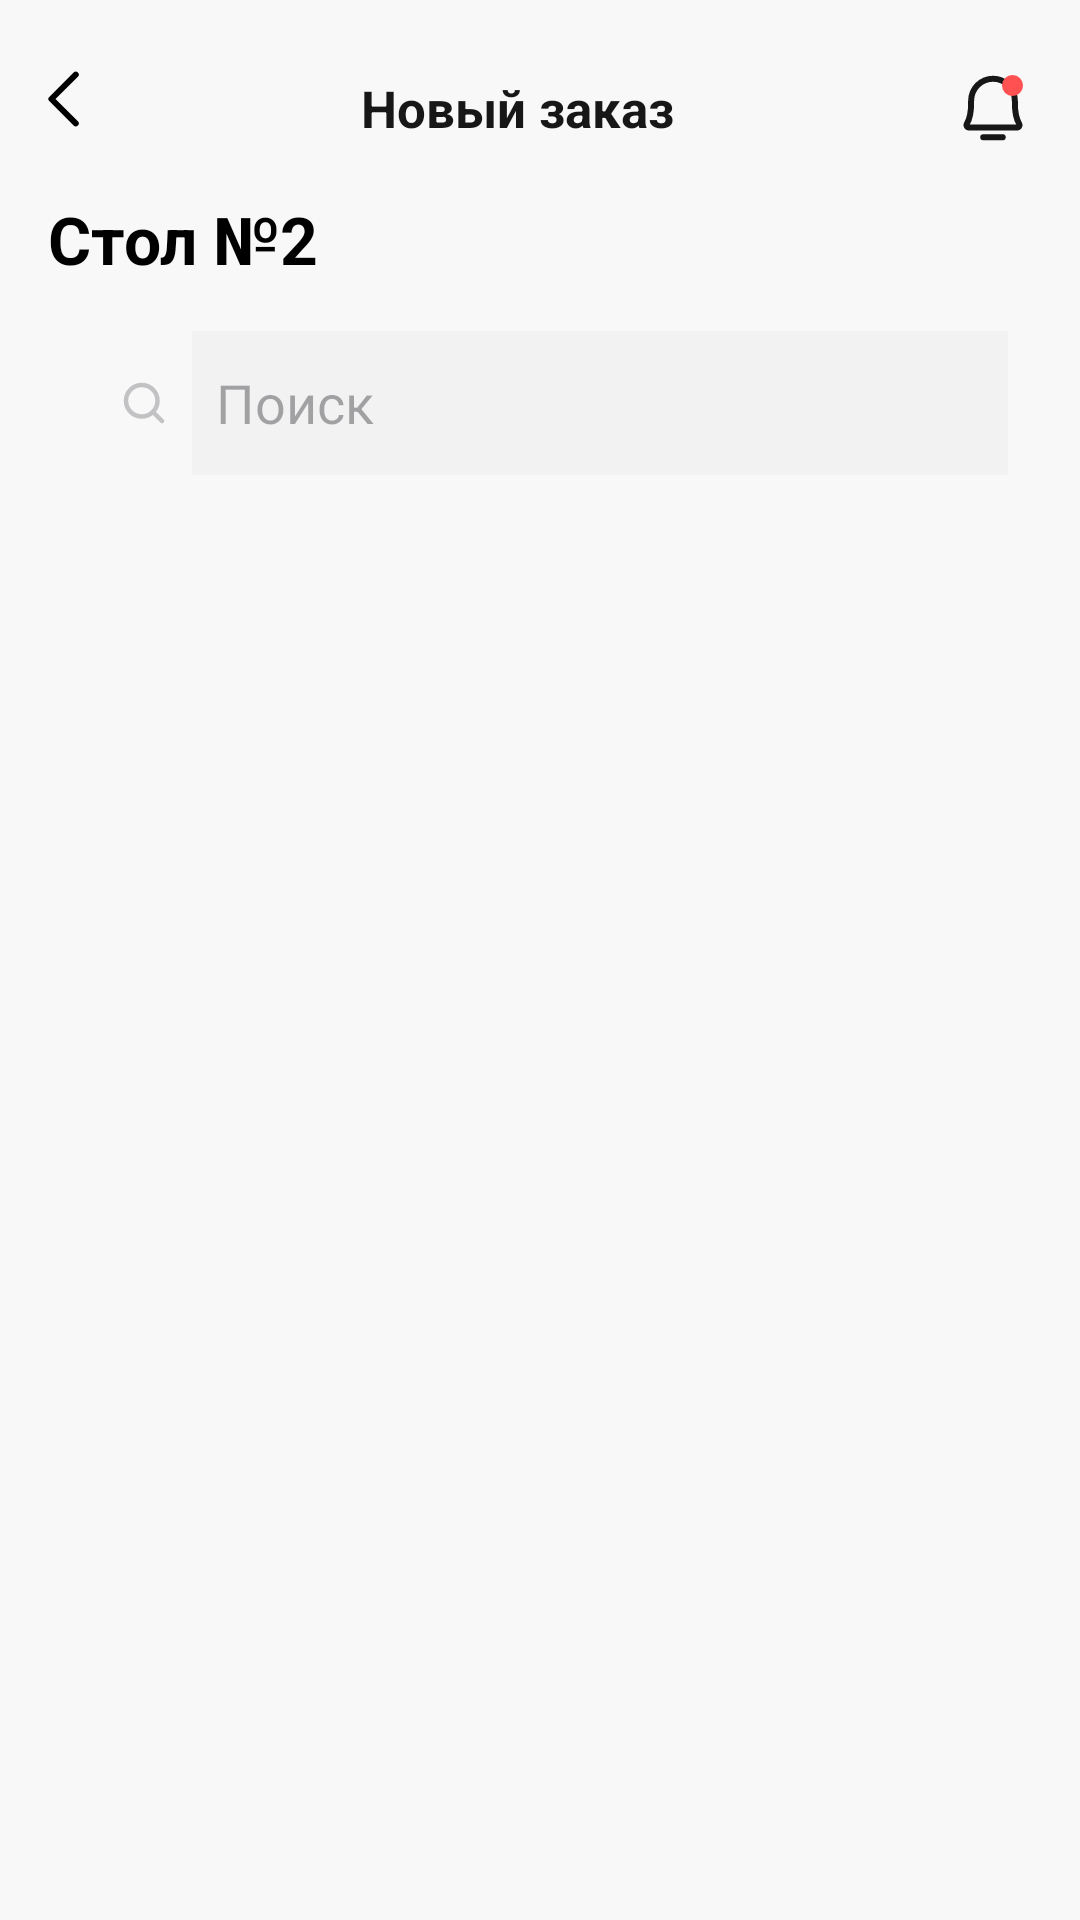

Icon bounding boxes for this 1080w x 1920h phone screenshot, format (x1, y1, x2, y2):
arrow back: (48, 71, 79, 127)
notification: (963, 75, 1023, 141)
